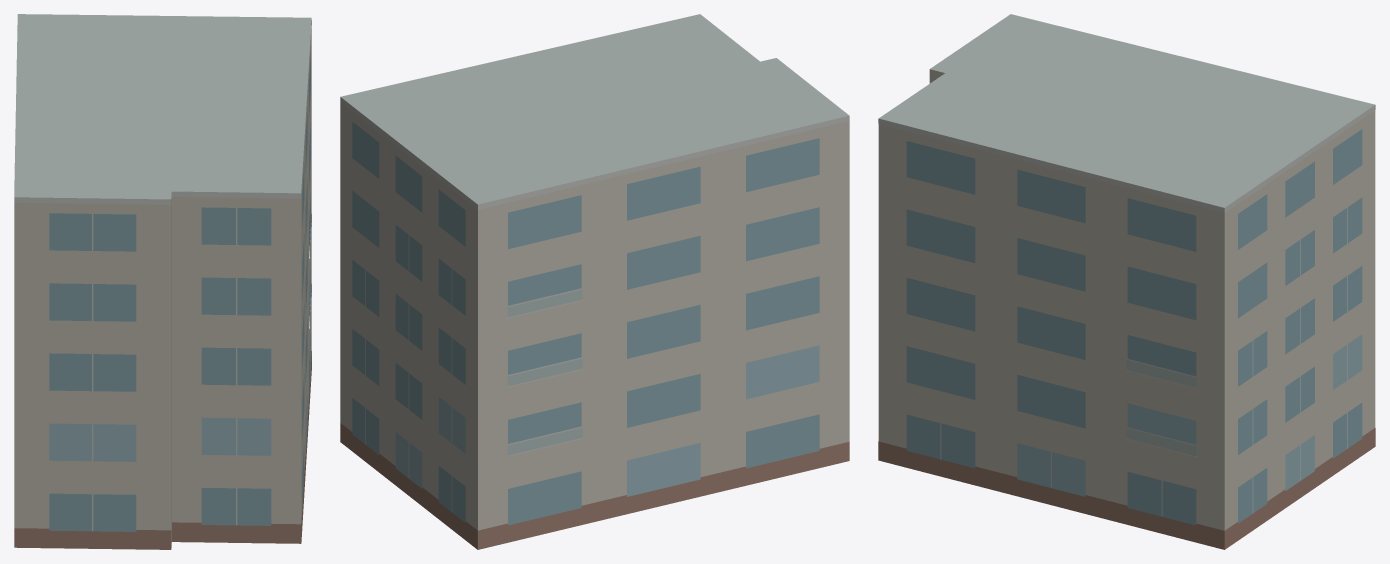
The model's file is survey-upis-32666969.glb.
3 renders of one model, left to right at view 1: azimuth 30°, elevation 25°; view 2: azimuth 150°, elevation 25°; view 3: azimuth 270°, elevation 25°, orthographic. The views are drawn at different scales.
Visible parts, largest first — view 1: survey-upis-32666969.tmp; view 2: survey-upis-32666969.tmp; view 3: survey-upis-32666969.tmp.
Part boxes in pixels (x1,y1,x2,y2): survey-upis-32666969.tmp: (14,14,311,549); survey-upis-32666969.tmp: (340,14,849,549); survey-upis-32666969.tmp: (878,14,1375,549).
Bounding box in the file's own units: 19.22 × 15.8 × 20.82.
